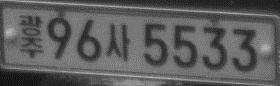3: (231, 28, 257, 72), (202, 26, 227, 69)
5: (173, 24, 197, 68), (144, 22, 167, 66)
6: (76, 18, 101, 61)
9: (46, 16, 72, 58)
광주_V: (18, 14, 44, 58)
사: (105, 23, 131, 61)
